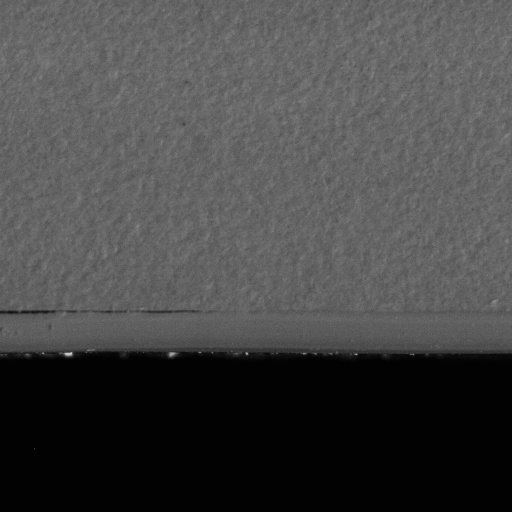jiaofeng: (0, 298, 210, 323)
